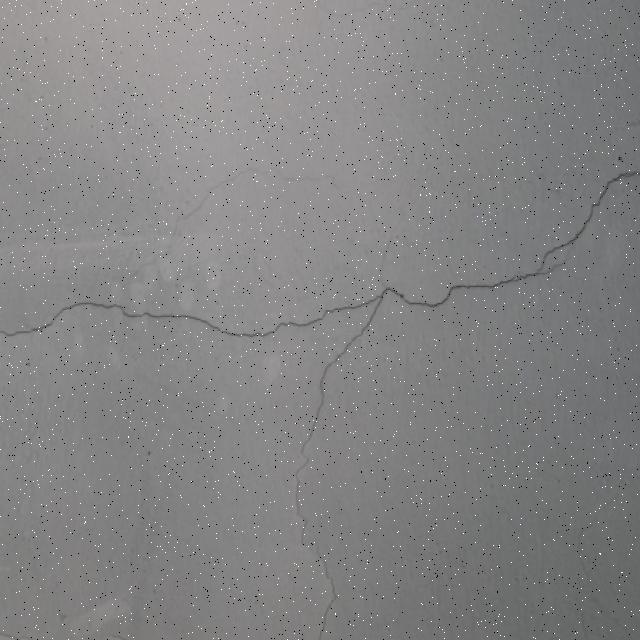minor crack: (166, 168, 275, 233), (186, 318, 278, 338)
moderate crack: (0, 270, 352, 337), (308, 292, 389, 420), (365, 272, 544, 311)
severe crack: (0, 170, 631, 620), (468, 169, 636, 288), (310, 535, 338, 632), (266, 311, 335, 330), (537, 238, 574, 268)
